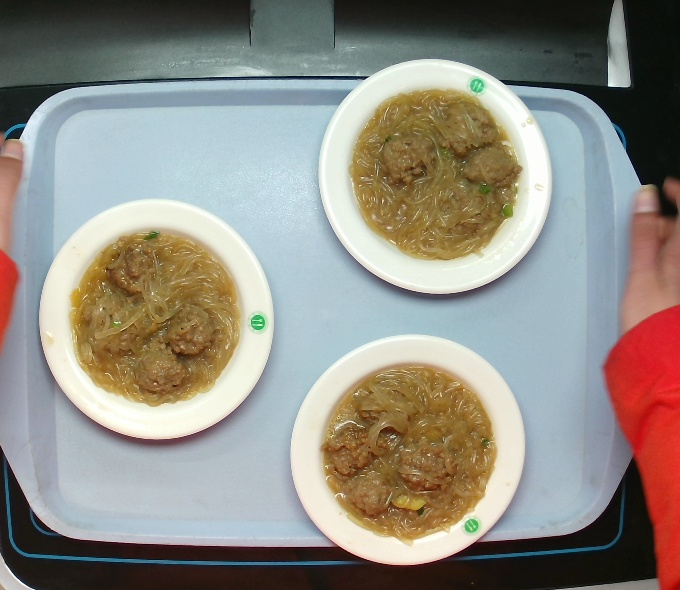wcq-FenSiNiuRouWan: (315, 354, 506, 544), (62, 222, 245, 409), (349, 88, 534, 262)
